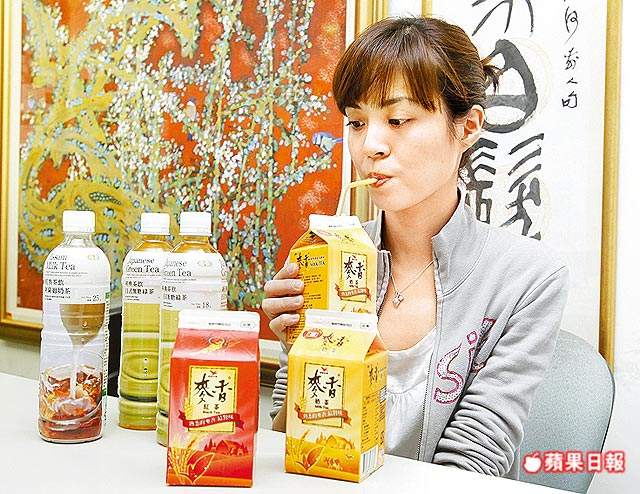milk tea: (291, 351, 389, 482), (329, 250, 375, 311)
